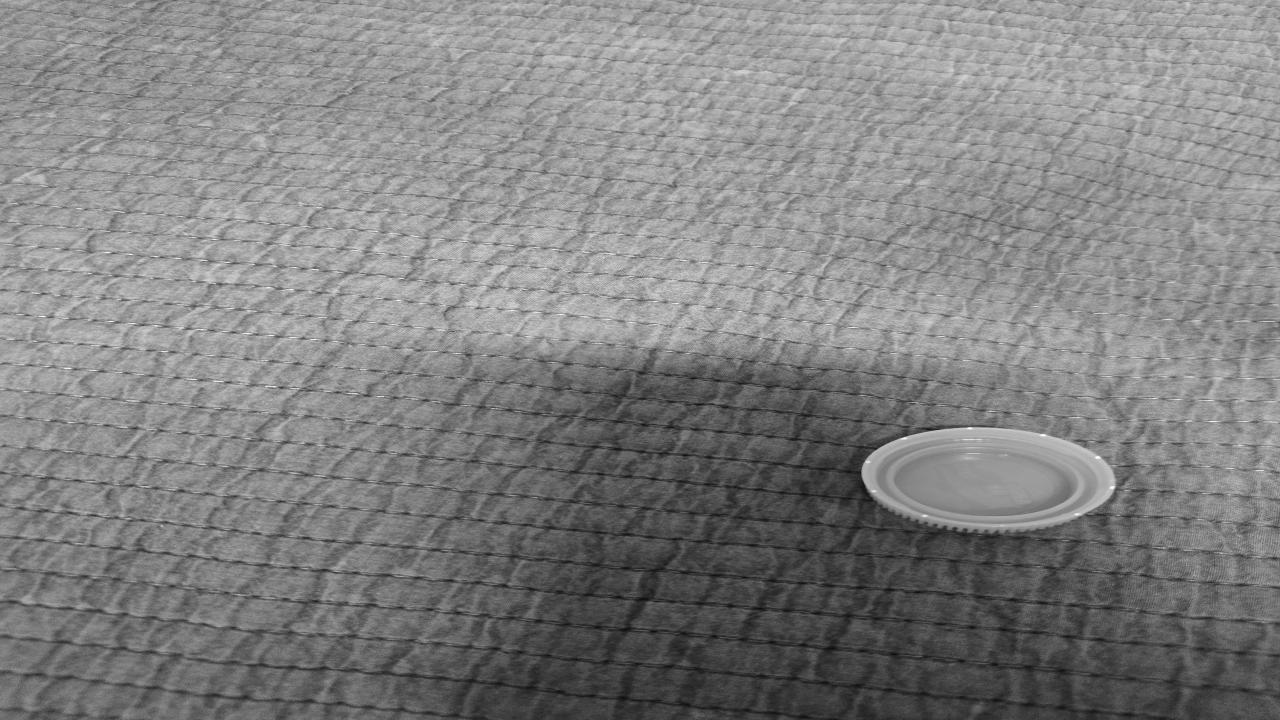bottle_cap: (866, 428, 1114, 533)
